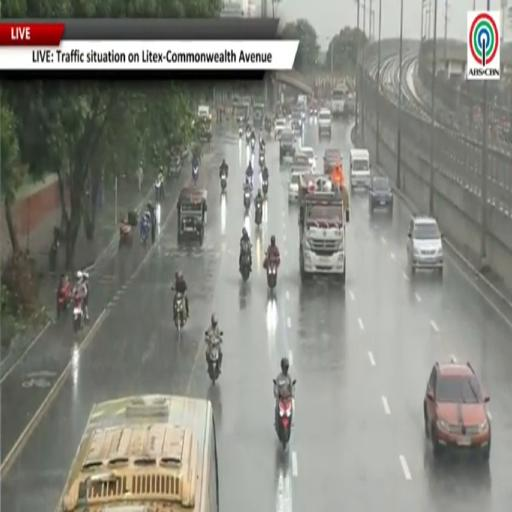bus: (57, 395, 218, 511), (331, 86, 347, 118)
car: (424, 358, 491, 460), (407, 215, 443, 275), (369, 176, 393, 215), (289, 171, 306, 202), (280, 128, 295, 163), (291, 150, 311, 172), (324, 149, 342, 173), (318, 108, 332, 138), (300, 147, 316, 170), (274, 118, 287, 140), (291, 119, 302, 138)
jeepney: (177, 186, 207, 245), (253, 102, 266, 129)
motorcycle: (276, 396, 293, 449), (207, 341, 221, 385), (57, 280, 72, 317), (49, 227, 61, 271), (174, 294, 186, 332), (72, 296, 84, 333), (240, 248, 251, 282), (266, 259, 278, 290), (119, 223, 133, 249), (168, 156, 181, 179), (141, 216, 150, 246), (243, 188, 251, 214), (255, 201, 262, 227), (155, 179, 163, 201), (192, 167, 199, 185), (221, 175, 227, 193), (262, 181, 268, 196), (259, 151, 264, 168), (246, 132, 251, 145), (251, 138, 255, 152), (239, 128, 243, 138)
truck: (299, 174, 350, 284), (197, 105, 212, 141)
